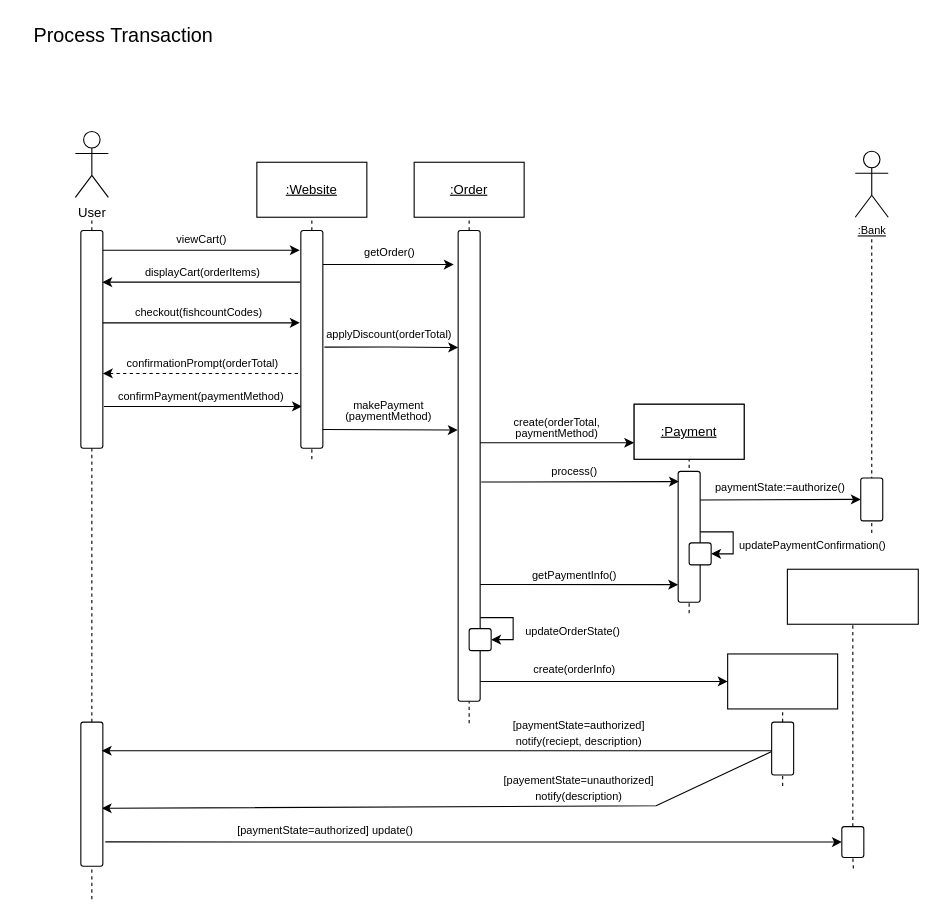
Image size: 937x920. Some labels were removed from this diagram. The box of each missing label's shape, as (x1, y1, x2, y2) in pixels:
:Inventory: (786, 568, 918, 624)
:Notification: (727, 653, 838, 709)
